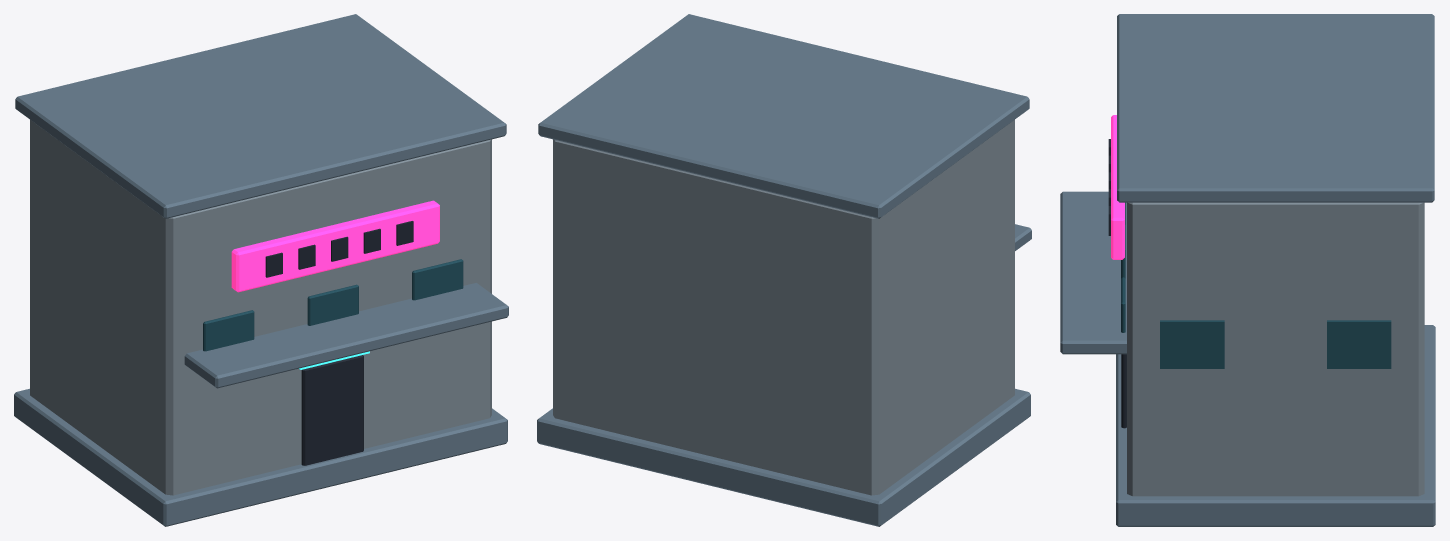
Rendered from SM_ENV_Building_002_Commercial.glb.
3 renders of one model, left to right at view 1: azimuth 30°, elevation 25°; view 2: azimuth 150°, elevation 25°; view 3: azimuth 270°, elevation 25°, orthographic. The views are drawn at different scales.
Parts seen in each view (by area): view 1: SM_ENV_Building_002_Commercial; view 2: SM_ENV_Building_002_Commercial; view 3: SM_ENV_Building_002_Commercial.
Boxes of the visible parts, box(x1,y1,x2,y2) form: SM_ENV_Building_002_Commercial: box(14, 14, 508, 526); SM_ENV_Building_002_Commercial: box(537, 14, 1031, 526); SM_ENV_Building_002_Commercial: box(1060, 14, 1435, 526).
Bounding box in the file's own units: 4.22 × 3.76 × 3.78.
